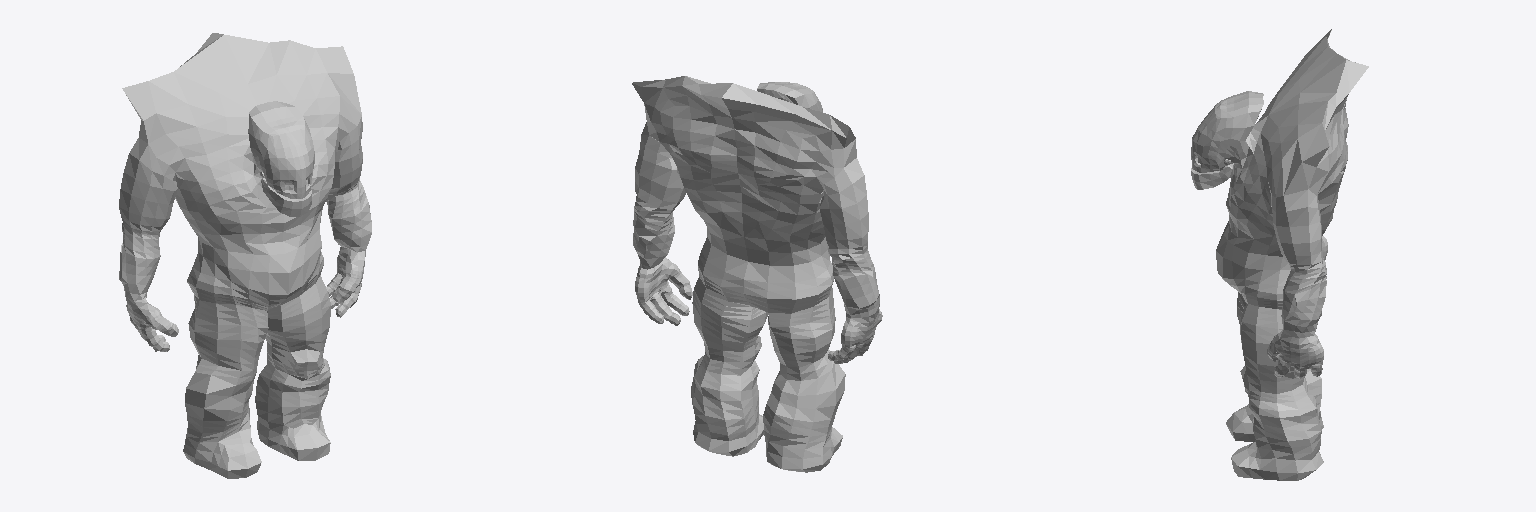
The model's file is golem_000003.obj.
3 views of the same model, side by side, from view 1: azimuth 30°, elevation 25°; view 2: azimuth 150°, elevation 25°; view 3: azimuth 270°, elevation 25° (orthographic).
Parts seen in each view (by area): view 1: golem; view 2: golem; view 3: golem.
Part boxes in pixels (x1,y1,x2,y2): golem: (119, 33, 371, 478); golem: (632, 76, 882, 472); golem: (1191, 29, 1368, 480).
Size of the model in its own units: 7.35 by 11.27 by 4.65.